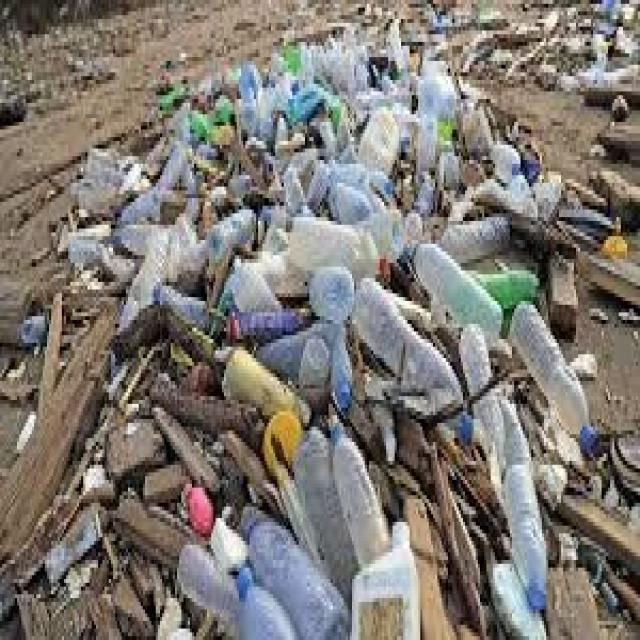heap: (267, 107, 545, 640)
